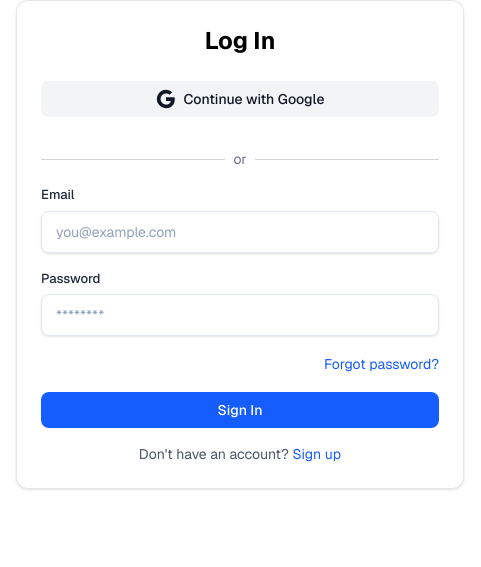
it: LoginForm › shows the verification message for unverified email credentials
Type "user@example.com" into the field labelled "Email".
click(240, 232); type("user@example.com")  # box [41,210,439,252]
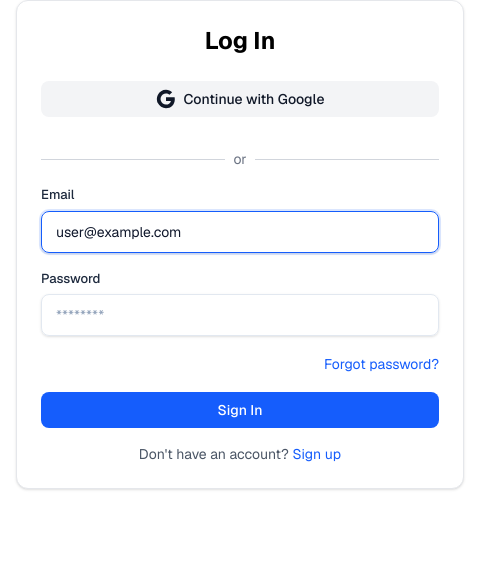
Type "password123" into the password field labelled "Password".
click(240, 315); type("password123")  # box [41,294,439,336]
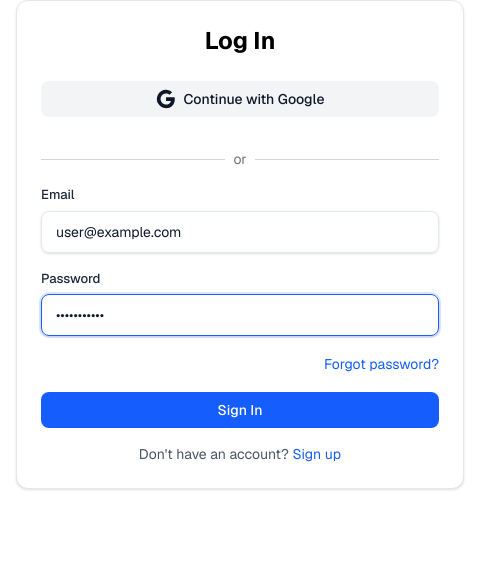
Click the button "Sign In".
click(240, 410)  # box [41,392,439,428]
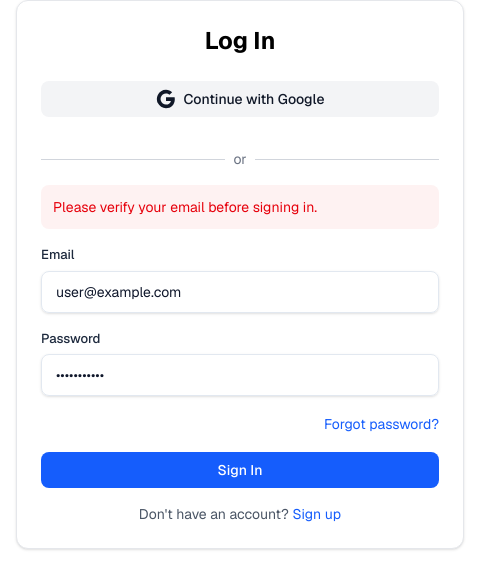
Now the text "Please verify your email before signing in." is shown, box [41,185,439,229]
